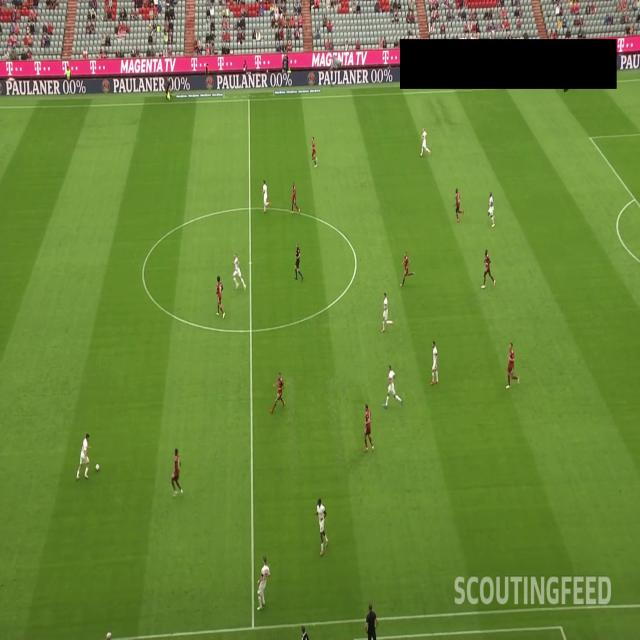ball: (94, 459, 100, 472)
player: (381, 360, 404, 409), (313, 497, 330, 557), (254, 553, 271, 610), (73, 430, 91, 481), (169, 445, 185, 499), (229, 248, 248, 293), (269, 368, 287, 413), (504, 338, 520, 388), (480, 244, 498, 288), (362, 400, 376, 454), (398, 247, 416, 288), (380, 288, 396, 334), (450, 184, 465, 224), (214, 270, 226, 318), (417, 124, 432, 158), (429, 334, 439, 384), (260, 176, 272, 213), (290, 177, 300, 215), (308, 132, 318, 170), (487, 189, 496, 230)
referee: (291, 237, 304, 283), (164, 71, 171, 104)
